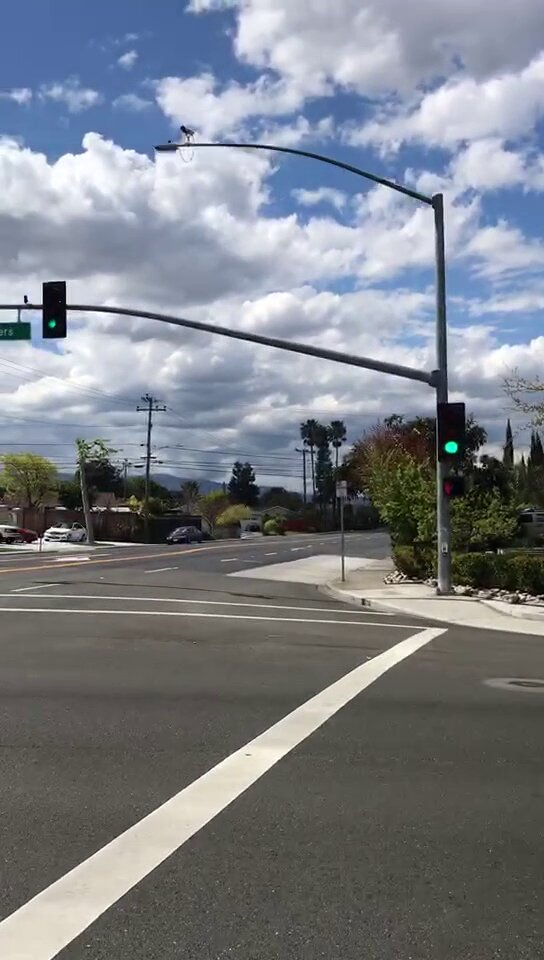green_light: (437, 405, 465, 462), (43, 280, 64, 337)
